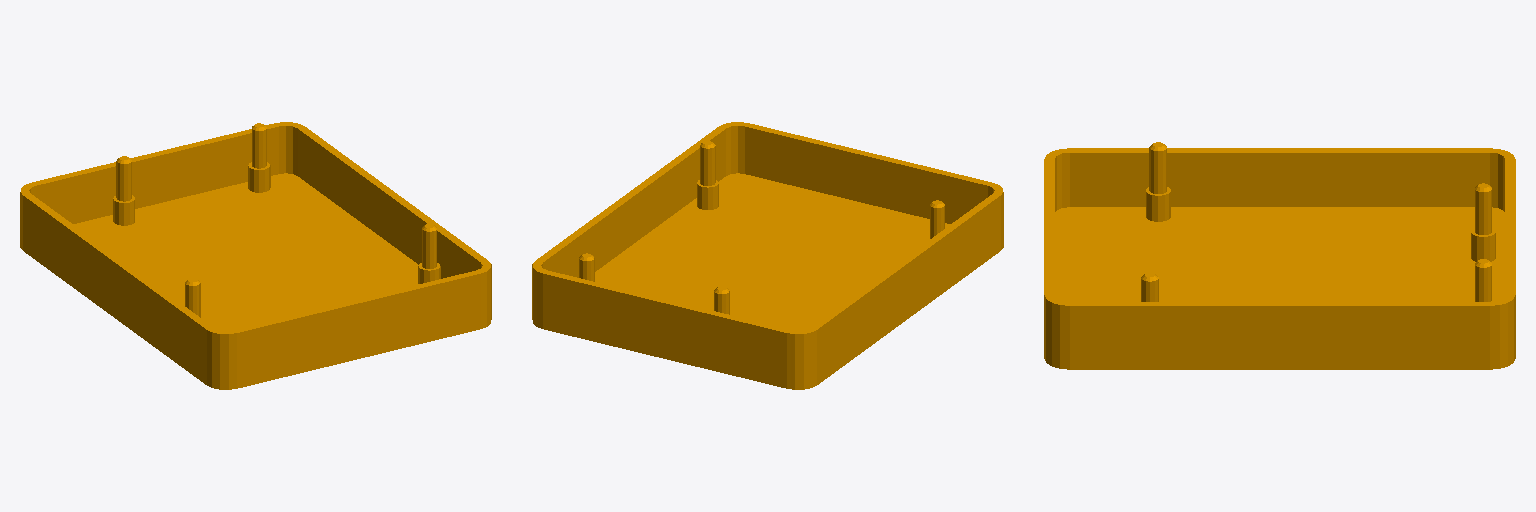
robot.urdf — 00470_socket:
<?xml version="1.0"?>
<robot name="00470_socket">
	<link name="00470_socket">
		<visual>
			<geometry>
				<mesh filename="../mesh/00470/asset_socket.obj"/>
			</geometry>
		</visual>
		<collision>
			<geometry>
				<mesh filename="../mesh/00470/asset_socket.obj"/>
			</geometry>
			<sdf resolution="256"/>
		</collision>
	</link>
</robot>

--- What the picture shows (computed from the rendered views, not written in the file) ---
Views: 3 orthographic renders of the robot side by side, from view 1: azimuth 30°, elevation 25°; view 2: azimuth 150°, elevation 25°; view 3: azimuth 270°, elevation 25°.
Robot: 00470_socket — 1 links, 0 joints (none); root link 00470_socket; default pose: every joint at zero.
Visible links, largest first — view 1: 00470_socket; view 2: 00470_socket; view 3: 00470_socket.
Boxes of the visible links, x1,y1,x2,y2 form: 00470_socket: (20, 122, 491, 389); 00470_socket: (532, 122, 1003, 389); 00470_socket: (1044, 142, 1515, 369).
Bounding box of the posed robot: 0.0771 × 0.0974 × 0.0185 m (x, y, z).
Meshes: 1 distinct files referenced, 1 mesh visuals loaded (1 OBJ).